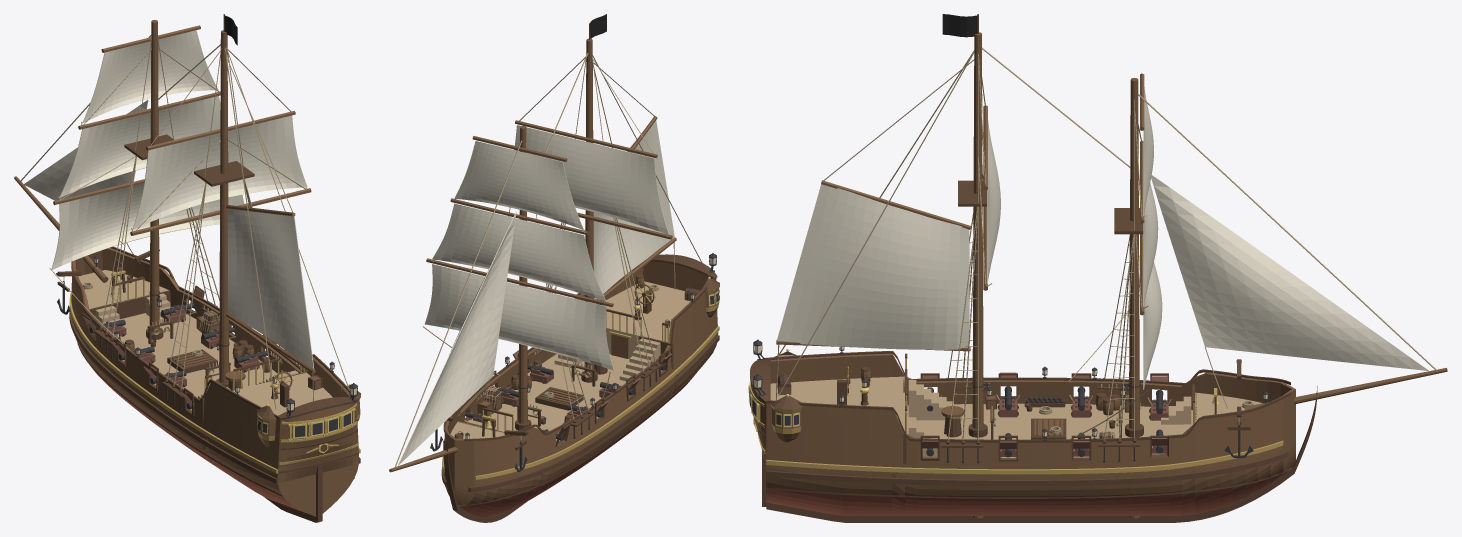
Rendered from ship.glb.
The picture shows the model from 3 angles, left to right: view 1: azimuth 30°, elevation 25°; view 2: azimuth 150°, elevation 25°; view 3: azimuth 270°, elevation 25°; orthographic projection. The views are drawn at different scales.
Visible parts, largest first — view 1: Hull, Sail_MainGaff, Sail_MainTopsail, Sail_ForeTopGallant, Sail_ForeTopsail, Sail_ForeCourse, MainDeck, SternTransom, MainMast, ForeMast, Sail_Jib, QuarterDeck (+20 smaller); view 2: Hull, Sail_ForeCourse, Sail_ForeTopsail, Sail_MainTopsail, Sail_Jib, Sail_ForeTopGallant, Sail_MainGaff, MainDeck, QuarterDeck, Wale_Lower, Wale_Upper, MainMast (+16 smaller); view 3: Hull, Sail_MainGaff, Sail_Jib, MainDeck, Keel, MainMast, Wale_Lower, RailCap, ForeMast, Wale_Upper, QuarterDeck, Sail_ForeCourse (+8 smaller).
Part boxes in pixels (x1,y1,x2,y2): Hull: (71,248,358,516); Sail_MainGaff: (228,209,314,369); Sail_MainTopsail: (132,115,307,229); Sail_ForeTopGallant: (82,30,218,123); Sail_ForeTopsail: (59,96,220,197); Sail_ForeCourse: (51,183,244,270); MainDeck: (120,313,277,409); SternTransom: (278,402,358,483); MainMast: (219,30,229,383); ForeMast: (149,20,159,332); Sail_Jib: (23,100,148,200); QuarterDeck: (233,372,332,415); Hull: (443,262,718,516); Sail_ForeCourse: (425,264,613,370); Sail_ForeTopsail: (432,203,606,301); Sail_MainTopsail: (514,125,668,234); Sail_Jib: (397,211,516,465); Sail_ForeTopGallant: (454,141,583,230); Sail_MainGaff: (593,120,674,299); MainDeck: (471,354,661,441); QuarterDeck: (604,281,690,358); Wale_Lower: (441,335,719,492); Wale_Upper: (442,326,719,479); MainMast: (584,38,594,375); Hull: (766,353,1295,515); Sail_MainGaff: (777,184,969,349); Sail_Jib: (1151,175,1429,370); MainDeck: (906,403,1193,457); Keel: (766,386,1317,522); MainMast: (972,32,983,518); Wale_Lower: (766,451,1288,485); RailCap: (766,351,1290,442); ForeMast: (1129,78,1139,518); Wale_Upper: (766,440,1283,474); QuarterDeck: (770,376,904,430); Sail_ForeCourse: (1143,262,1162,389).
Size of what is drawn, in the model's own units: 10.21 by 22.2 by 27.73.
